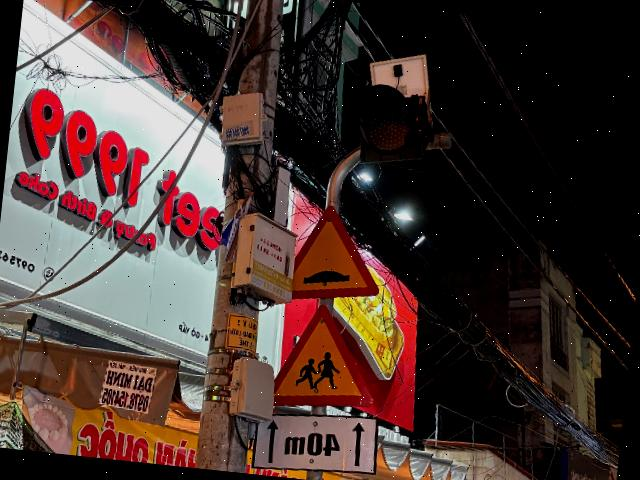duong-co-go-giam-toc: (290, 202, 388, 306)
tre-em-qua-duong: (274, 301, 384, 417)
